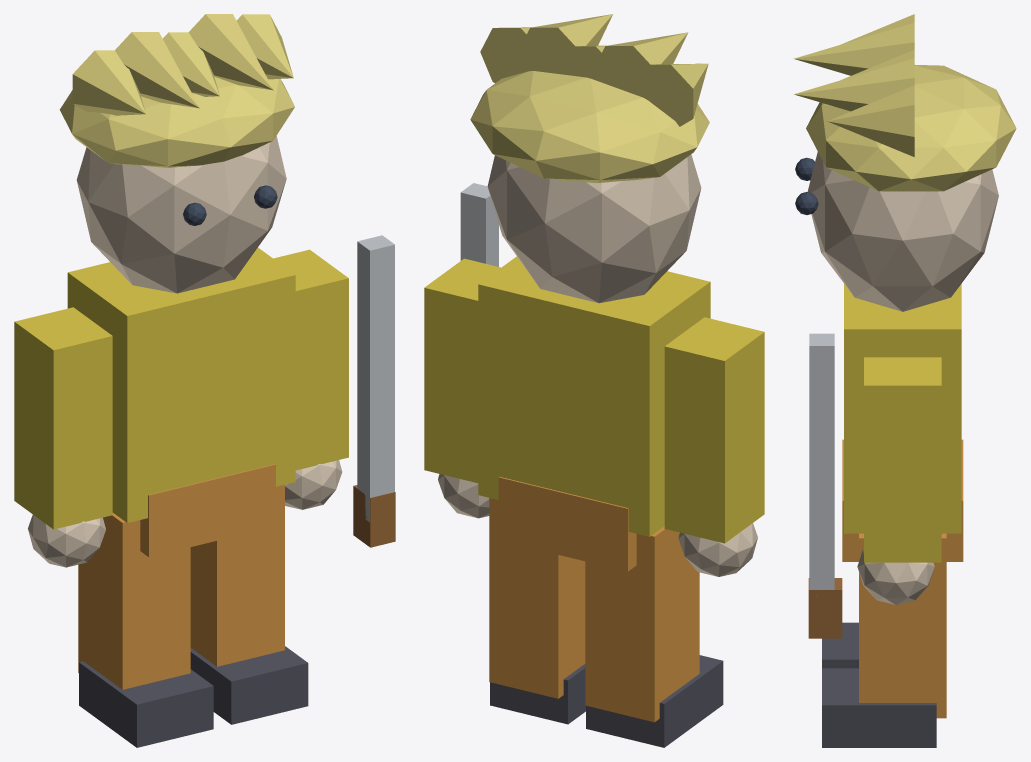
Rendered from zenitsu.glb.
The picture shows the model from 3 angles, left to right: view 1: azimuth 30°, elevation 25°; view 2: azimuth 150°, elevation 25°; view 3: azimuth 270°, elevation 25°; orthographic projection. The views are drawn at different scales.
Parts seen in each view (by area): view 1: part_000, part_010, part_002, part_004, part_013, part_008, part_006, part_020, part_001, part_005, part_009, part_014 (+7 smaller); view 2: part_000, part_010, part_002, part_013, part_004, part_008, part_006, part_001, part_005, part_017, part_015, part_014 (+6 smaller); view 3: part_010, part_006, part_013, part_000, part_008, part_020, part_009, part_018, part_015, part_017, part_007, part_019 (+3 smaller).
Part boxes in pixels (x1,y1,x2,y2): part_000: [67, 247, 295, 522]; part_010: [76, 136, 286, 293]; part_002: [14, 307, 112, 529]; part_004: [78, 513, 190, 689]; part_013: [59, 76, 294, 167]; part_008: [190, 484, 284, 666]; part_006: [273, 249, 348, 470]; part_020: [357, 235, 394, 522]; part_001: [140, 464, 275, 557]; part_005: [79, 661, 213, 747]; part_009: [190, 646, 308, 724]; part_014: [72, 50, 145, 115]; part_000: [478, 256, 710, 536]; part_010: [487, 154, 701, 303]; part_002: [664, 317, 764, 543]; part_013: [470, 71, 709, 183]; part_004: [585, 526, 699, 722]; part_008: [489, 498, 585, 698]; part_006: [424, 258, 500, 483]; part_001: [498, 476, 636, 571]; part_005: [586, 655, 723, 747]; part_017: [518, 14, 612, 76]; part_015: [593, 32, 688, 102]; part_014: [630, 63, 708, 126]; part_010: [807, 151, 998, 311]; part_006: [864, 357, 941, 562]; part_013: [806, 65, 1016, 191]; part_000: [844, 284, 961, 533]; part_008: [859, 533, 946, 718]; part_020: [809, 333, 834, 595]; part_009: [822, 668, 936, 747]; part_018: [827, 85, 914, 156]; part_015: [793, 22, 914, 75]; part_017: [794, 58, 914, 111]; part_007: [857, 548, 934, 605]; part_019: [808, 578, 842, 638].
Size of the model in its own units: 1.08 by 2.17 by 0.6628.
